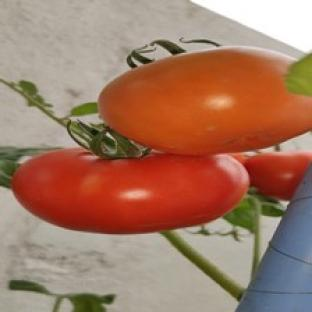Tomato: (98, 46, 311, 154), (13, 148, 249, 233), (244, 151, 311, 200)
